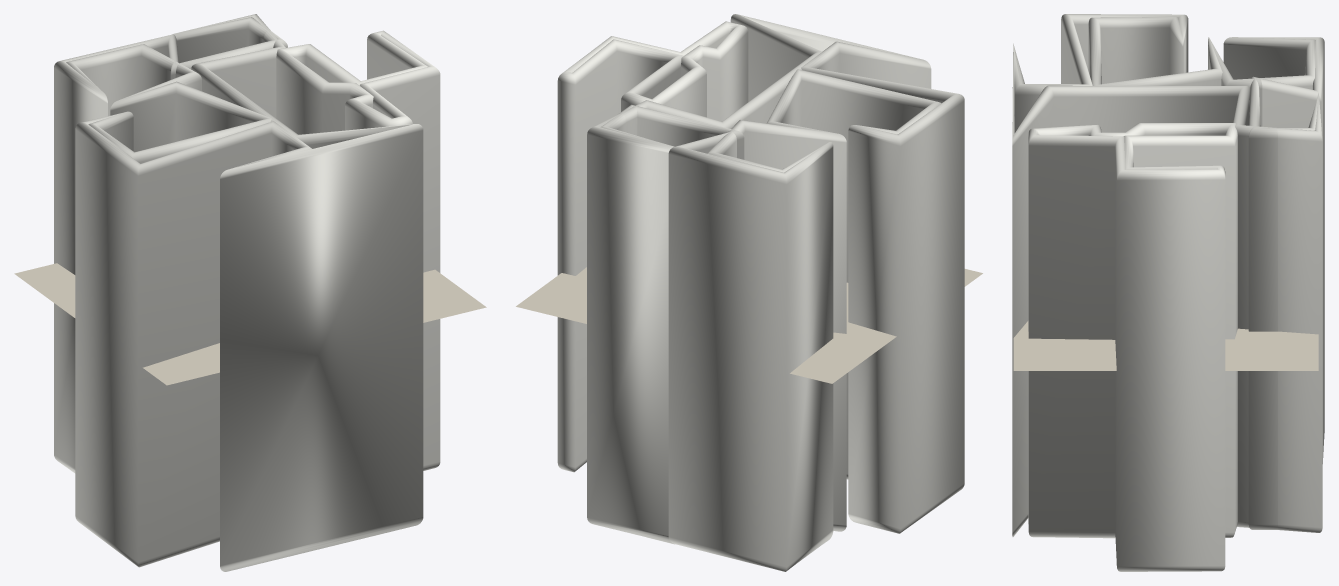
The model's file is c69d3696-6699-4cab-8a29-4ff087f287fc_model.glb.
3 renders of one model, left to right at view 1: azimuth 30°, elevation 25°; view 2: azimuth 150°, elevation 25°; view 3: azimuth 270°, elevation 25°, orthographic.
Parts seen in each view (by area): view 1: wall_1, wall_0, Floor; view 2: wall_1, wall_0, Floor; view 3: wall_0, wall_1, Floor.
Boxes of the visible parts, bbox=[...] form: wall_1: bbox=[54, 14, 423, 571]; wall_0: bbox=[276, 30, 440, 470]; Floor: bbox=[14, 263, 486, 385]; wall_1: bbox=[587, 14, 964, 571]; wall_0: bbox=[557, 21, 748, 472]; Floor: bbox=[516, 267, 982, 383]; wall_0: bbox=[1028, 123, 1237, 571]; wall_1: bbox=[1012, 14, 1324, 536]; Floor: bbox=[1013, 321, 1318, 370].
Bounding box in the file's own units: 5.37 × 6.24 × 4.4.
